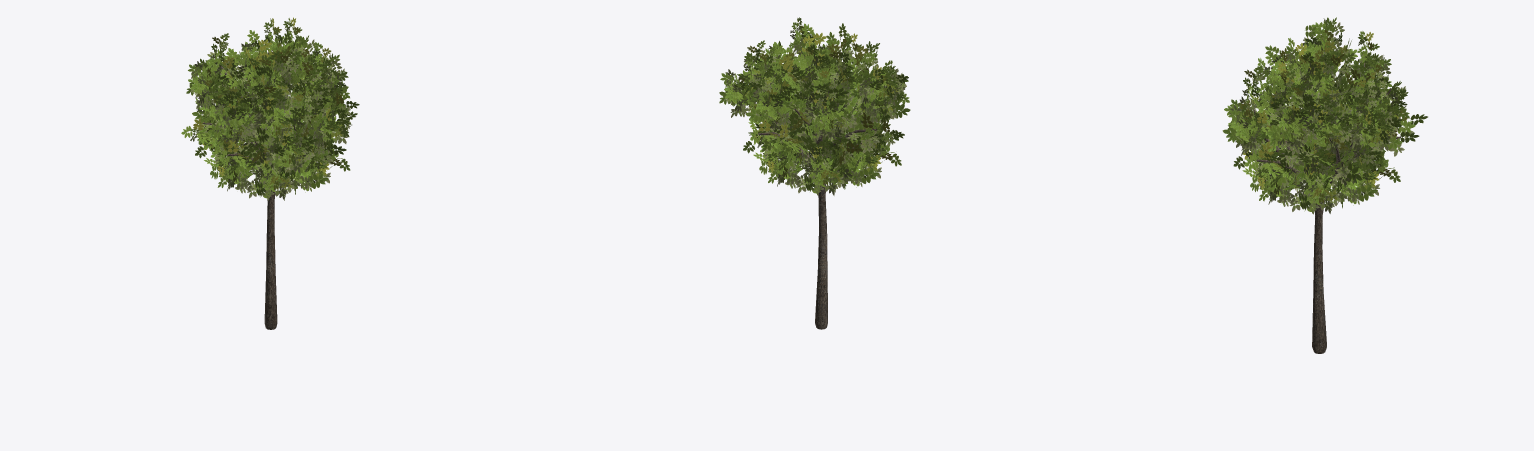
Rendered from tree_1.glb.
The picture shows the model from 3 angles, left to right: view 1: azimuth 30°, elevation 25°; view 2: azimuth 150°, elevation 25°; view 3: azimuth 270°, elevation 25°; orthographic projection. The views are drawn at different scales.
Visible parts, largest first — view 1: node_id12, node_id9; view 2: node_id12, node_id9; view 3: node_id12, node_id9.
Boxes of the visible parts, box(x1,y1,x2,y2) form: node_id12: box(181, 17, 359, 200); node_id9: box(202, 59, 330, 329); node_id12: box(719, 17, 910, 195); node_id9: box(756, 75, 877, 329); node_id12: box(1222, 17, 1427, 214); node_id9: box(1252, 63, 1401, 353).
Bounding box in the file's own units: 0.1616 × 0.1377 × 0.1616.
3 materials, 3 textured.
